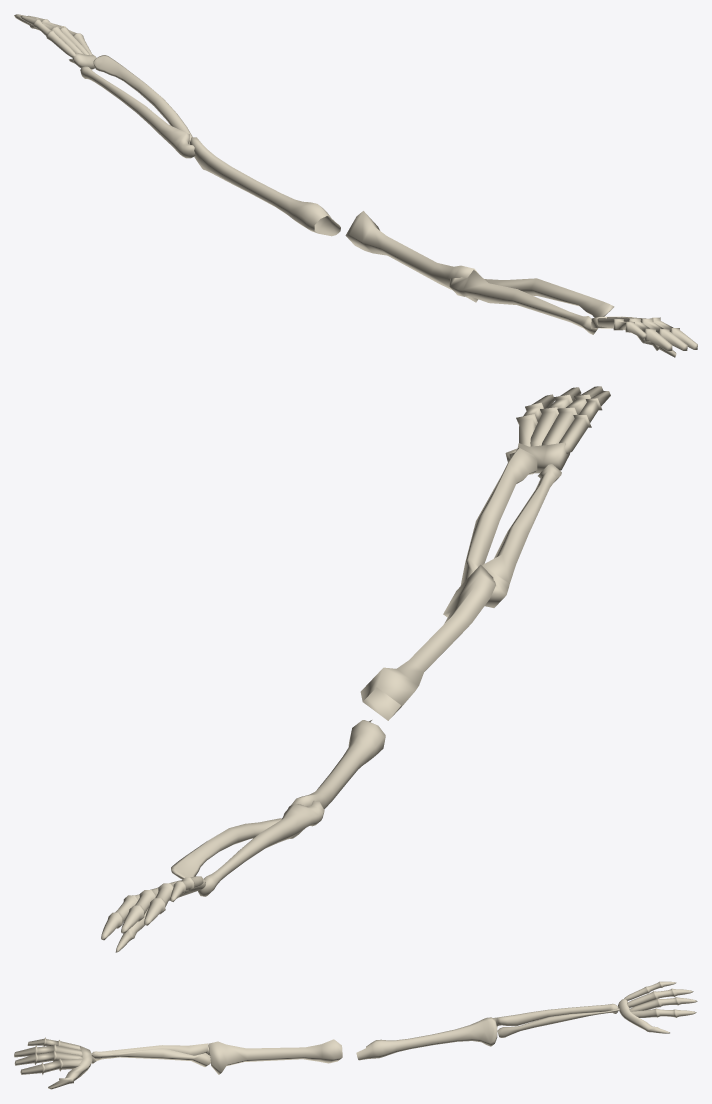
File: asset.glb
3 renders of one model, top to bottom at view 1: azimuth 30°, elevation 25°; view 2: azimuth 150°, elevation 25°; view 3: azimuth 270°, elevation 25°, orthographic. The views are drawn at different scales.
Visible parts, largest first — view 1: Skeleton_lowPoly, Skeleton_highPoly; view 2: Skeleton_lowPoly, Skeleton_highPoly; view 3: Skeleton_lowPoly, Skeleton_highPoly.
Boxes of the visible parts, <box> form: Skeleton_lowPoly: <box>345,211,697,357</box>; Skeleton_highPoly: <box>14,14,340,236</box>; Skeleton_lowPoly: <box>360,386,610,720</box>; Skeleton_highPoly: <box>101,720,385,952</box>; Skeleton_lowPoly: <box>14,1037,342,1089</box>; Skeleton_highPoly: <box>356,981,697,1060</box>.
Bounding box in the file's own units: 3.19 × 1.16 × 13.43.
